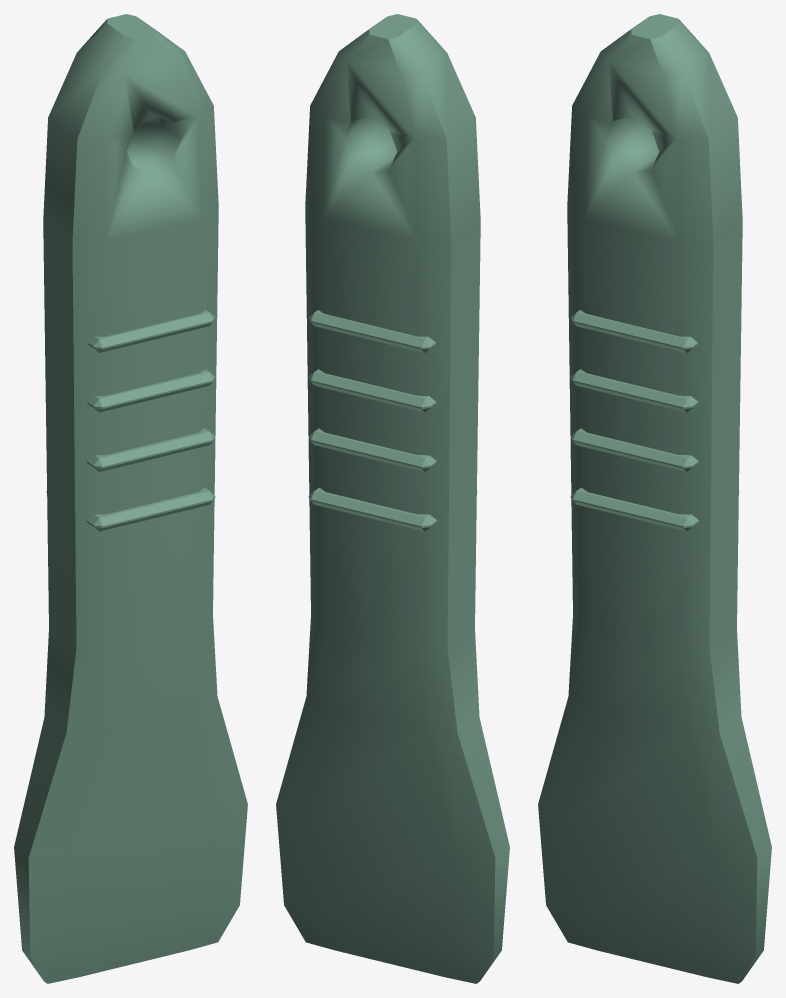
Rendered from leva.glb.
3 views of the same model, side by side, from view 1: azimuth 30°, elevation 25°; view 2: azimuth 150°, elevation 25°; view 3: azimuth 330°, elevation 25° (orthographic).
Visible parts, largest first — view 1: corpo_leva; view 2: corpo_leva; view 3: corpo_leva.
Part boxes in pixels (x1,y1,x2,y2): corpo_leva: (14, 14, 247, 983); corpo_leva: (276, 14, 509, 983); corpo_leva: (538, 14, 771, 983).
Size of the model in its own units: 0.027 by 0.11 by 0.0114.
